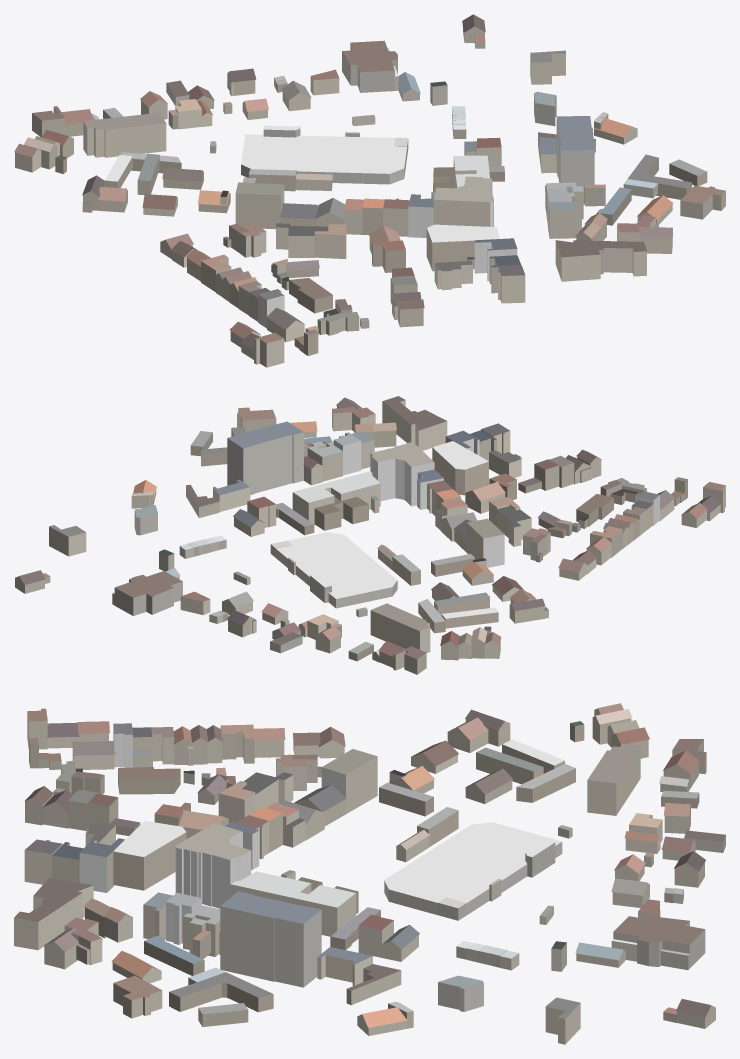
The picture shows the model from 3 angles, top to bottom: view 1: azimuth 30°, elevation 25°; view 2: azimuth 150°, elevation 25°; view 3: azimuth 270°, elevation 25°; orthographic projection. The views are drawn at different scales.
Visible parts, largest first — view 1: tuile; view 2: tuile; view 3: tuile.
Part boxes in pixels (x1,y1,x2,y2): tuile: (14, 14, 725, 367); tuile: (15, 396, 725, 674); tuile: (14, 703, 725, 1044).
Size of the model in its own units: 266 by 28.83 by 263.
